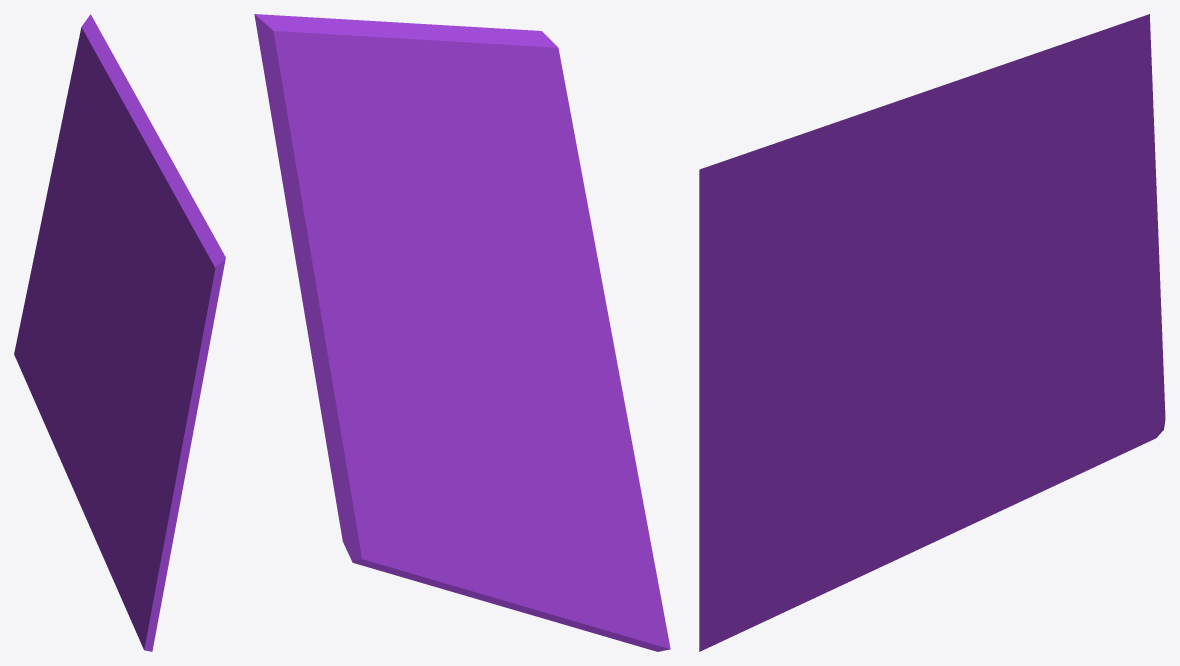
The model's file is Window_3_10_chunks.fbx.
3 views of the same model, side by side, from view 1: azimuth 30°, elevation 25°; view 2: azimuth 150°, elevation 25°; view 3: azimuth 270°, elevation 25° (orthographic). The views are drawn at different scales.
Visible parts, largest first — view 1: Window_3_10_8, Window_3_10_9, Window_3_10_11, Window_3_10_12, Window_3_10_1, Window_3_10_16, Window_3_10_5, Window_3_10_7, Window_3_10_20, Window_3_10_17, Window_3_10_14, Window_3_10_10 (+7 smaller); view 2: Window_3_10_8, Window_3_10_9, Window_3_10_5, Window_3_10_11, Window_3_10_1, Window_3_10_7, Window_3_10_12, Window_3_10_16, Window_3_10_20, Window_3_10_3, Window_3_10_17, Window_3_10_14 (+7 smaller); view 3: Window_3_10_9, Window_3_10_8, Window_3_10_11, Window_3_10_1, Window_3_10_5, Window_3_10_12, Window_3_10_16, Window_3_10_7, Window_3_10_20, Window_3_10_3, Window_3_10_14, Window_3_10_17 (+7 smaller).
Part boxes in pixels (x1=…): Window_3_10_8: x1=121, y1=132, x2=225, y2=327; Window_3_10_9: x1=68, y1=14, x2=155, y2=198; Window_3_10_11: x1=97, y1=488, x2=178, y2=651; Window_3_10_12: x1=115, y1=400, x2=199, y2=514; Window_3_10_1: x1=49, y1=346, x2=112, y2=526; Window_3_10_16: x1=114, y1=324, x2=213, y2=414; Window_3_10_5: x1=27, y1=142, x2=87, y2=319; Window_3_10_7: x1=58, y1=93, x2=121, y2=265; Window_3_10_20: x1=123, y1=230, x2=192, y2=324; Window_3_10_17: x1=100, y1=304, x2=200, y2=354; Window_3_10_14: x1=82, y1=303, x2=123, y2=414; Window_3_10_10: x1=90, y1=415, x2=126, y2=543; Window_3_10_8: x1=394, y1=22, x2=575, y2=171; Window_3_10_9: x1=254, y1=14, x2=410, y2=161; Window_3_10_5: x1=286, y1=205, x2=411, y2=458; Window_3_10_11: x1=544, y1=436, x2=670, y2=651; Window_3_10_1: x1=422, y1=410, x2=542, y2=613; Window_3_10_7: x1=279, y1=138, x2=417, y2=310; Window_3_10_12: x1=514, y1=260, x2=630, y2=491; Window_3_10_16: x1=494, y1=141, x2=597, y2=427; Window_3_10_20: x1=440, y1=160, x2=560, y2=264; Window_3_10_3: x1=328, y1=452, x2=411, y2=578; Window_3_10_17: x1=439, y1=148, x2=570, y2=337; Window_3_10_14: x1=437, y1=324, x2=512, y2=430; Window_3_10_9: x1=931, y1=14, x2=1154, y2=198; Window_3_10_8: x1=699, y1=89, x2=951, y2=254; Window_3_10_11: x1=699, y1=481, x2=869, y2=651; Window_3_10_1: x1=892, y1=380, x2=1052, y2=559; Window_3_10_5: x1=1020, y1=161, x2=1162, y2=366; Window_3_10_12: x1=699, y1=344, x2=875, y2=486; Window_3_10_16: x1=699, y1=250, x2=887, y2=416; Window_3_10_7: x1=974, y1=127, x2=1155, y2=272; Window_3_10_20: x1=720, y1=198, x2=932, y2=289; Window_3_10_3: x1=1076, y1=350, x2=1165, y2=475; Window_3_10_14: x1=884, y1=308, x2=1006, y2=415; Window_3_10_17: x1=706, y1=252, x2=972, y2=334.
Bounding box in the file's own units: 321 × 1446 × 866.
